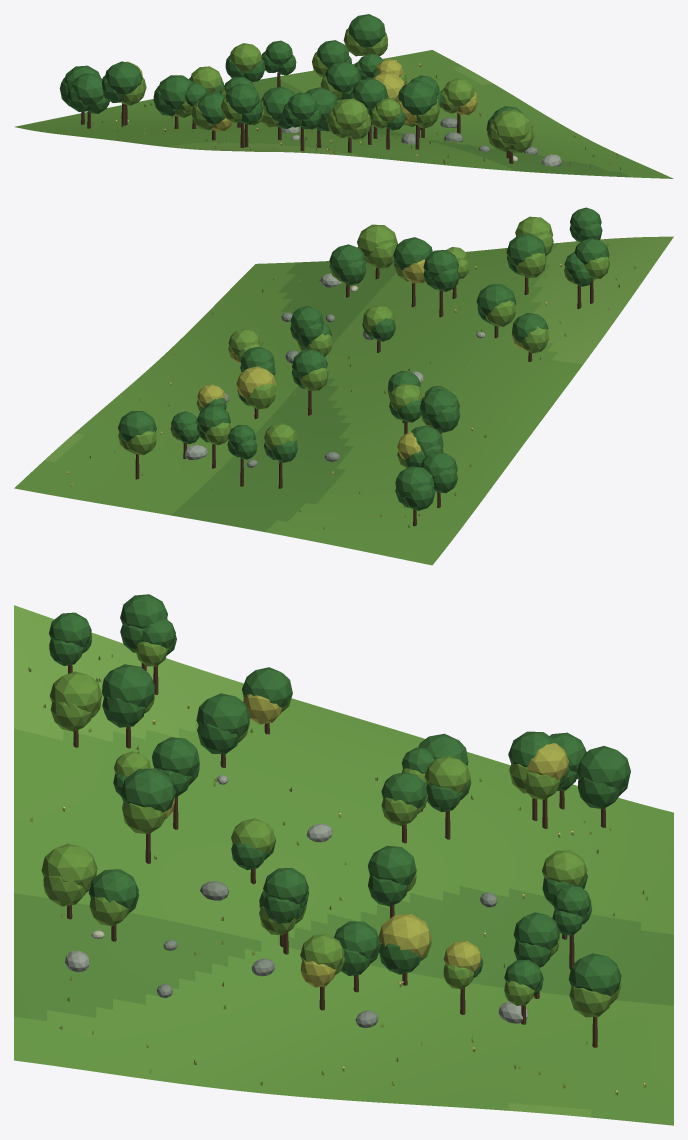
The model's file is Chunk_X3_Y0_Z3.fbx.
The picture shows the model from 3 angles, top to bottom: view 1: azimuth 30°, elevation 25°; view 2: azimuth 150°, elevation 25°; view 3: azimuth 270°, elevation 25°; orthographic projection. The views are drawn at different scales.
Visible parts, largest first — view 1: Canopies.047, Terrain.048, Trunks.047, Rocks.048, GroundCover.048; view 2: Terrain.048, Canopies.047, Trunks.047, Rocks.048; view 3: Terrain.048, Canopies.047, Rocks.048, Trunks.047, GroundCover.048.
Part boxes in pixels (x1=…): Canopies.047: x1=59, y1=14, x2=534, y2=152; Terrain.048: x1=14, y1=50, x2=673, y2=178; Trunks.047: x1=81, y1=72, x2=513, y2=163; Rocks.048: x1=281, y1=117, x2=561, y2=166; GroundCover.048: x1=90, y1=60, x2=621, y2=169; Terrain.048: x1=14, y1=236, x2=673, y2=565; Canopies.047: x1=118, y1=207, x2=609, y2=510; Trunks.047: x1=135, y1=267, x2=593, y2=526; Rocks.048: x1=184, y1=273, x2=485, y2=467; Terrain.048: x1=14, y1=605, x2=673, y2=1125; Canopies.047: x1=41, y1=594, x2=630, y2=1017; Rocks.048: x1=65, y1=775, x2=528, y2=1027; Trunks.047: x1=67, y1=662, x2=605, y2=1047; GroundCover.048: x1=28, y1=654, x2=647, y2=1095.
Bounding box in the file's own units: 100 × 46.41 × 100.
